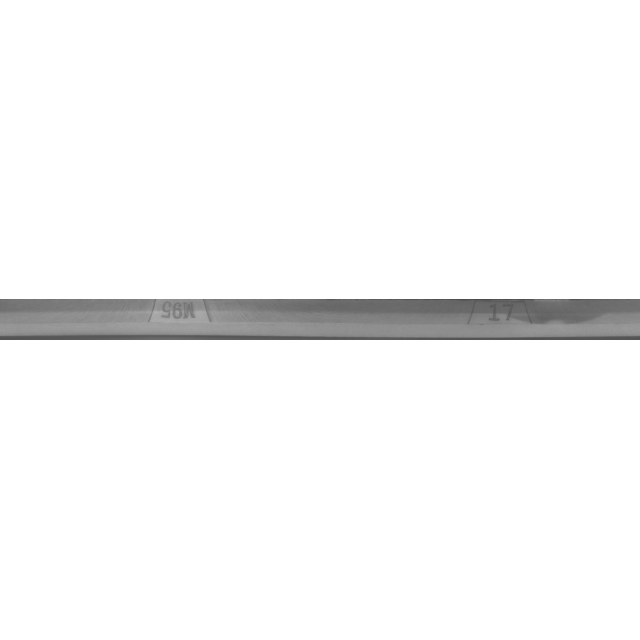mohao: (75, 270, 275, 370)
xuehao: (406, 270, 606, 370)
